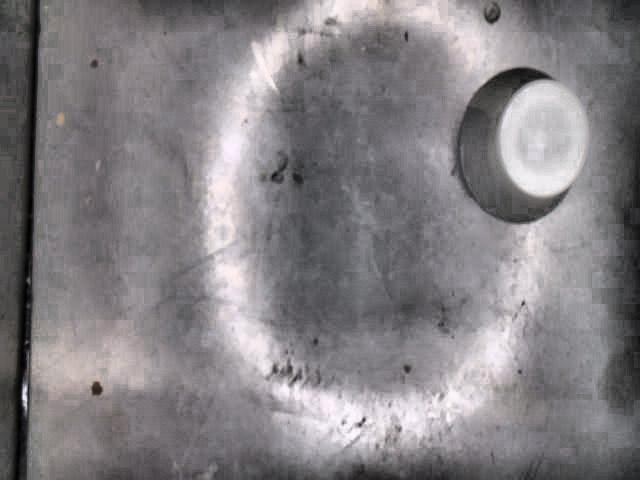Plastic: (459, 66, 591, 226)
